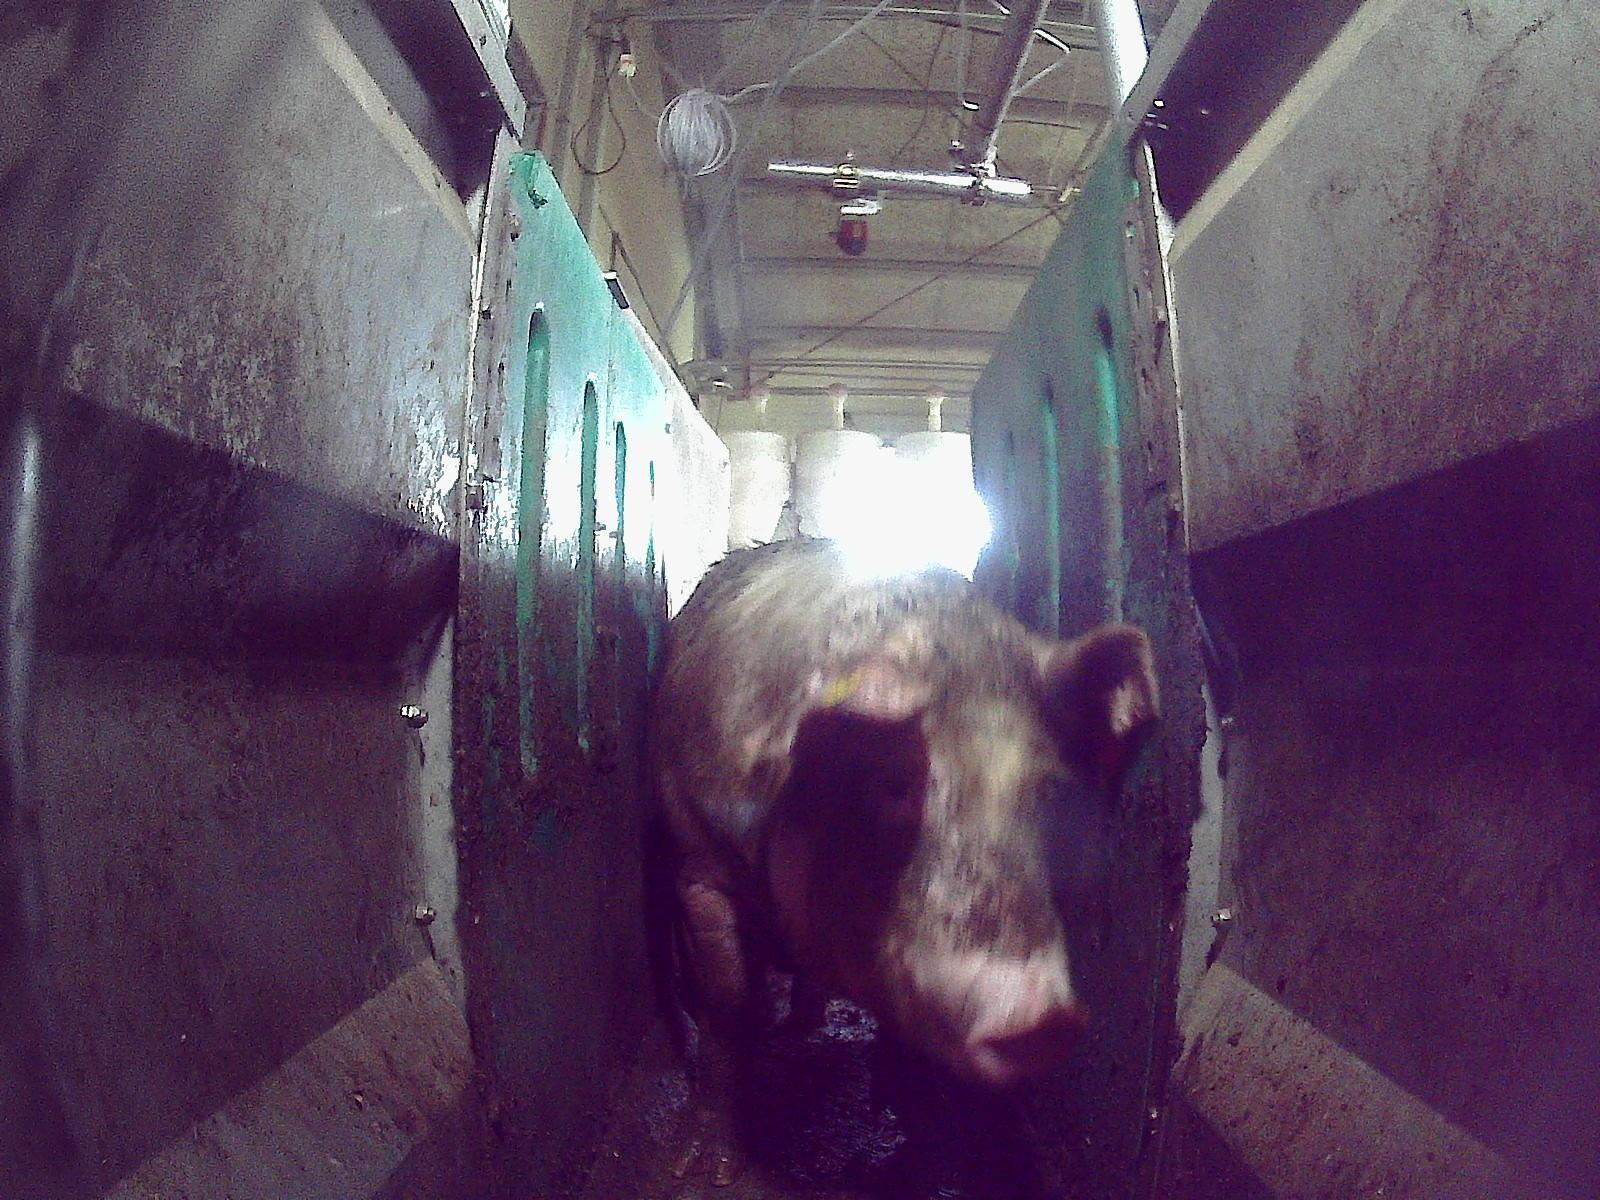Face: (771, 646, 1089, 1086)
